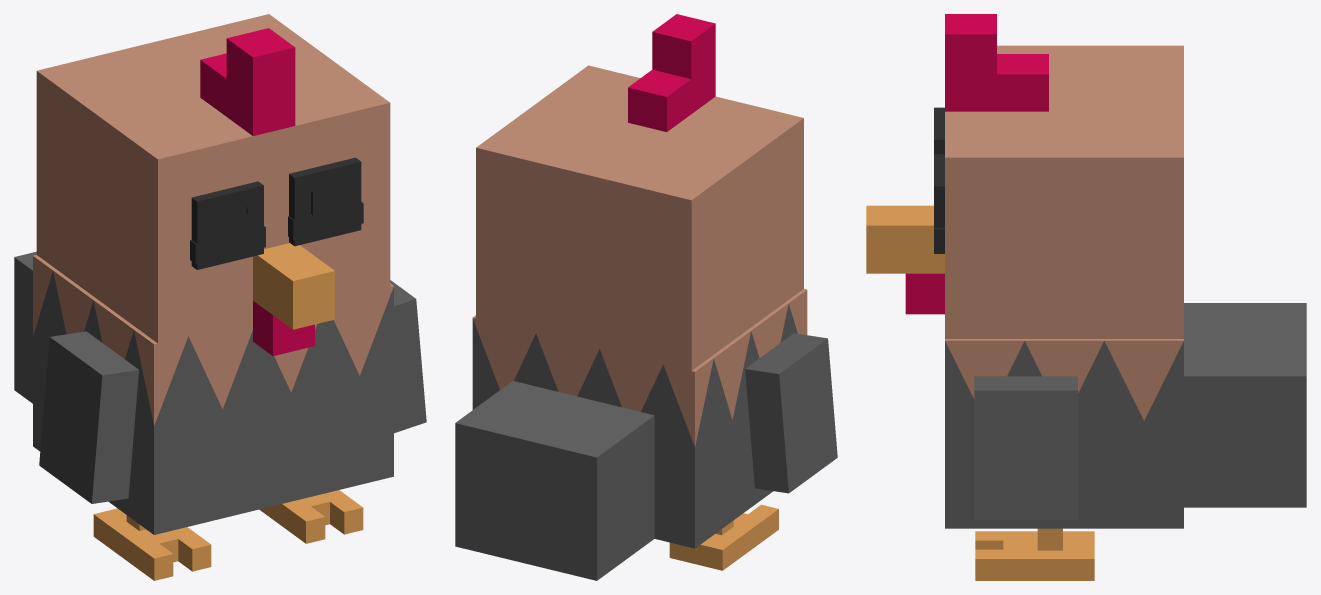
3 renders of one model, left to right at view 1: azimuth 30°, elevation 25°; view 2: azimuth 150°, elevation 25°; view 3: azimuth 270°, elevation 25°, orthographic. The views are drawn at different scales.
Visible parts, largest first — view 1: Ch_13_Head, Ch_13, Ch_13_Wing_L, Ch_13_Leg_L, Ch_13_Wing_R, Ch_13_Leg_R, Ch_13_Eye_01, Ch_13_Eye_03_L, Ch_13_Eye_03_R, Ch_13_Eye_02; view 2: Ch_13_Head, Ch_13, Ch_13_Wing_L, Ch_13_Leg_L; view 3: Ch_13_Head, Ch_13, Ch_13_Wing_R, Ch_13_Leg_R, Ch_13_Eye_03_R.
Boxes of the visible parts, left/top/right/bottom form: Ch_13_Head: left=36, top=14, right=390, bottom=356; Ch_13: left=14, top=251, right=393, bottom=534; Ch_13_Wing_L: left=39, top=331, right=138, bottom=503; Ch_13_Leg_L: left=93, top=508, right=211, bottom=580; Ch_13_Wing_R: left=390, top=280, right=426, bottom=433; Ch_13_Leg_R: left=259, top=490, right=363, bottom=543; Ch_13_Eye_01: left=212, top=177, right=346, bottom=254; Ch_13_Eye_03_L: left=191, top=181, right=263, bottom=269; Ch_13_Eye_03_R: left=289, top=157, right=361, bottom=246; Ch_13_Eye_02: left=190, top=202, right=363, bottom=263; Ch_13_Head: left=476, top=14, right=803, bottom=370; Ch_13: left=455, top=289, right=807, bottom=580; Ch_13_Wing_L: left=745, top=333, right=837, bottom=493; Ch_13_Leg_L: left=669, top=504, right=778, bottom=570; Ch_13_Head: left=866, top=14, right=1183, bottom=338; Ch_13: left=945, top=303, right=1306, bottom=528; Ch_13_Wing_R: left=974, top=376, right=1077, bottom=519; Ch_13_Leg_R: left=975, top=528, right=1094, bottom=580; Ch_13_Eye_03_R: left=934, top=154, right=944, bottom=253.
Size of the model in its own units: 8.4 by 12.32 by 9.7.
